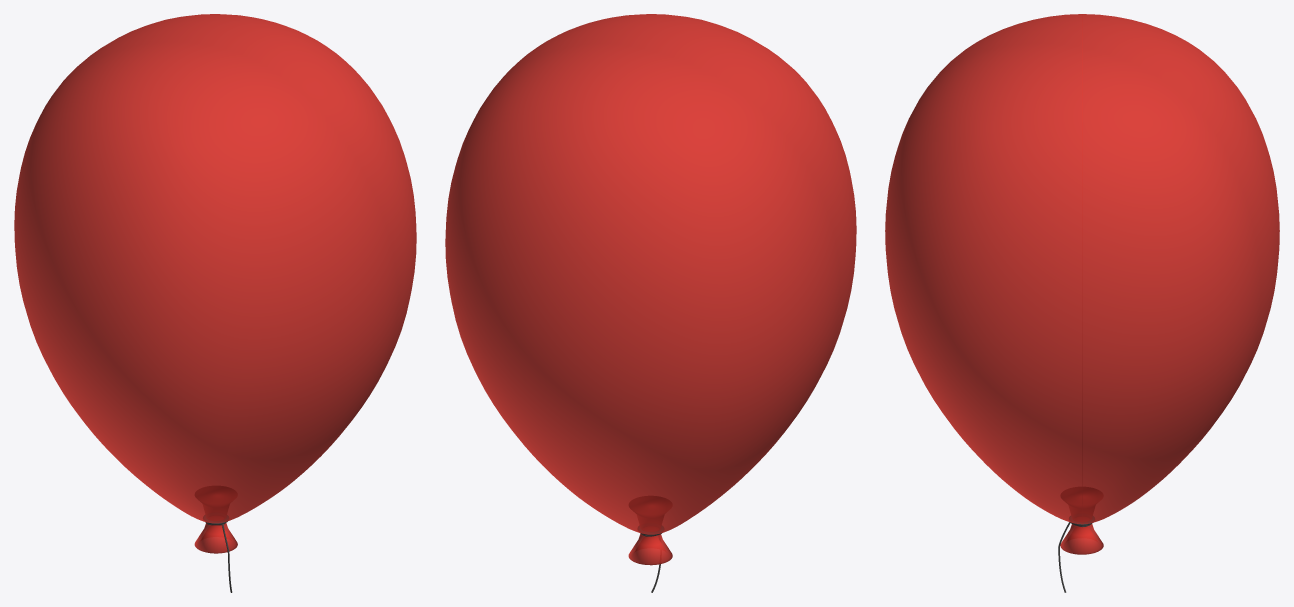
Rendered from ballon_rouge.glb.
3 renders of one model, left to right at view 1: azimuth 30°, elevation 25°; view 2: azimuth 150°, elevation 25°; view 3: azimuth 270°, elevation 25°, orthographic. The views are drawn at different scales.
Parts seen in each view (by area): view 1: Cube.003, Cylinder.006; view 2: Cube.003, Cylinder.006; view 3: Cube.003, Cylinder.006.
Boxes of the visible parts, box(x1,y1,x2,y2) form: Cube.003: box(14, 14, 416, 523); Cylinder.006: box(194, 486, 237, 553); Cube.003: box(445, 14, 856, 534); Cylinder.006: box(628, 496, 672, 565); Cube.003: box(885, 14, 1279, 524); Cylinder.006: box(1060, 487, 1103, 554).
Size of the model in its own units: 71.29 by 110 by 71.29.
